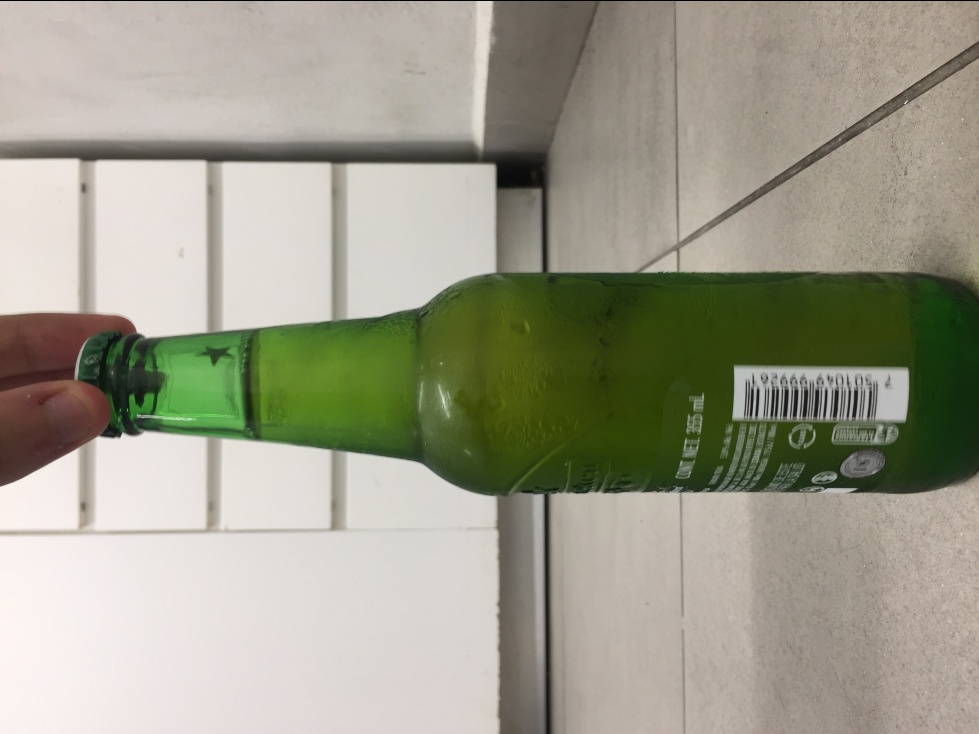heineken: (69, 269, 979, 498)
